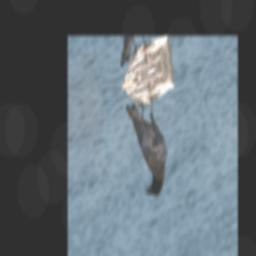Crow: (125, 85, 171, 207)
